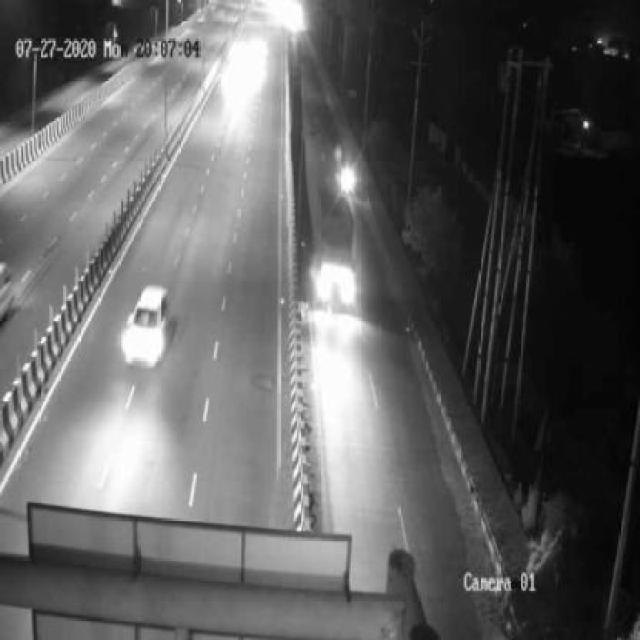car: (120, 280, 172, 368)
